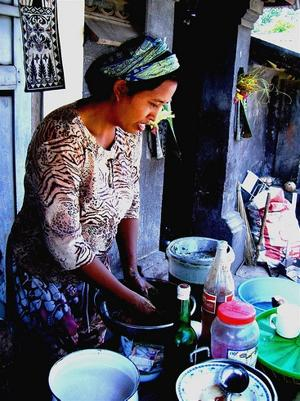person: (5, 34, 181, 401)
